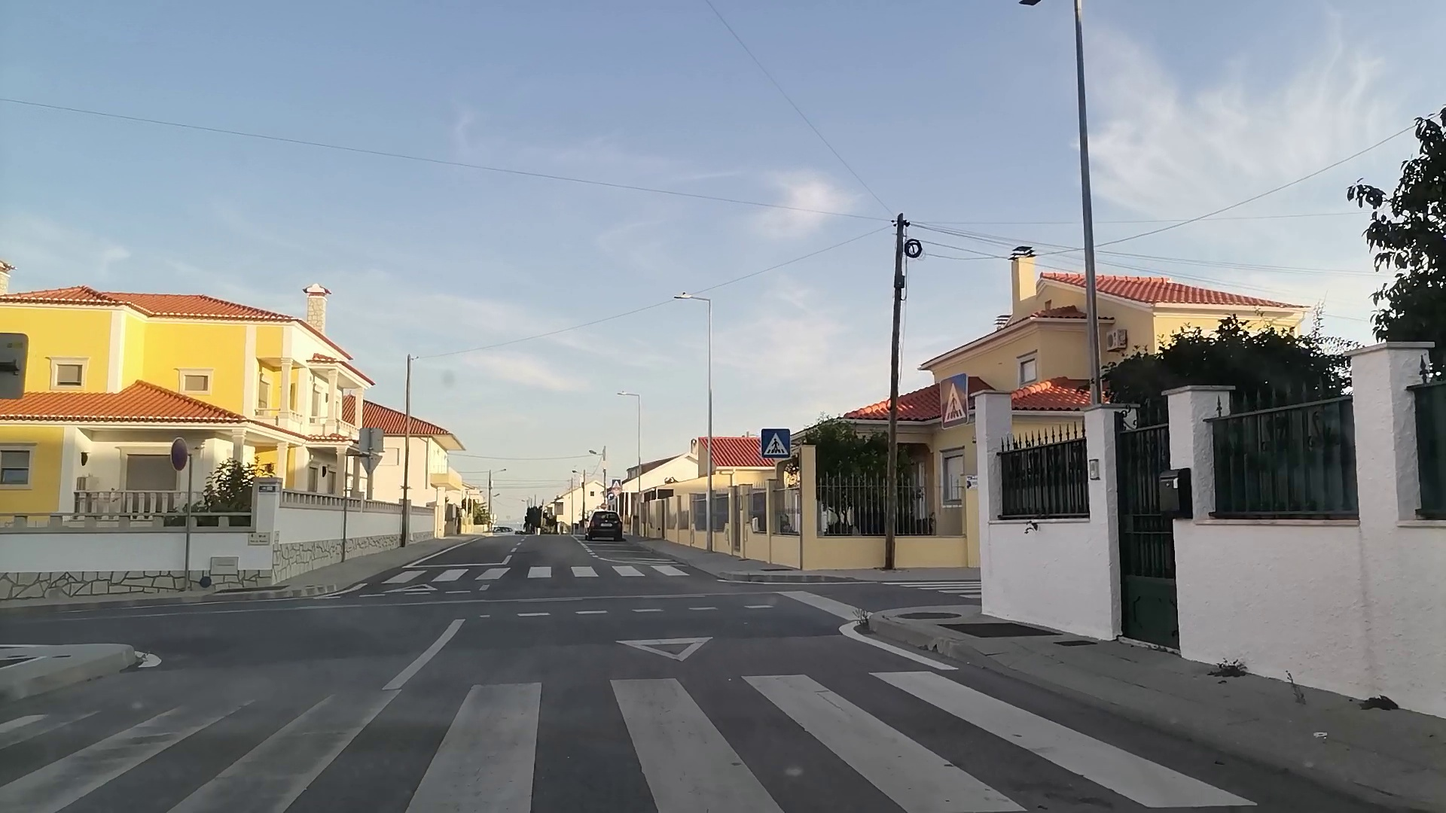Stairs: (4, 670, 1261, 813), (387, 554, 696, 591)
